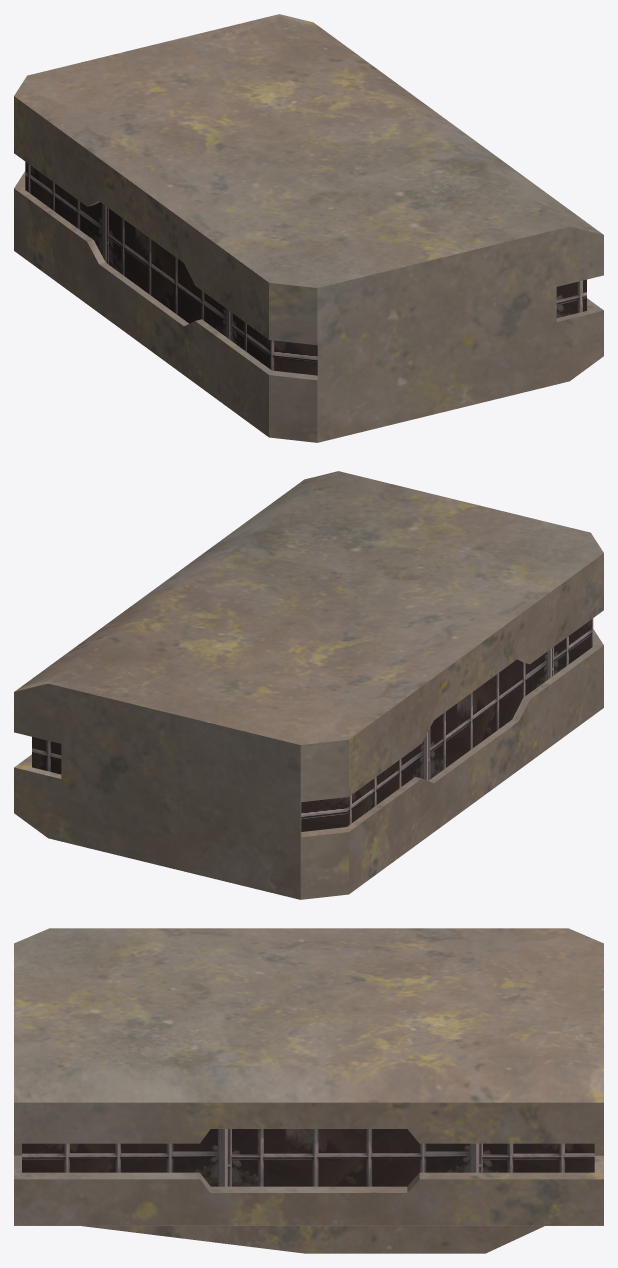
The model's file is ghiway_4a.fbx.
3 renders of one model, top to bottom at view 1: azimuth 30°, elevation 25°; view 2: azimuth 150°, elevation 25°; view 3: azimuth 270°, elevation 25°, orthographic.
Visible parts, largest first — view 1: ghiway_4a; view 2: ghiway_4a; view 3: ghiway_4a.
Boxes of the visible parts, x1,y1,x2,y2 form: ghiway_4a: [14, 14, 603, 442]; ghiway_4a: [14, 471, 603, 899]; ghiway_4a: [14, 928, 603, 1253].
Size of the model in its own units: 891 by 518 by 1411.
